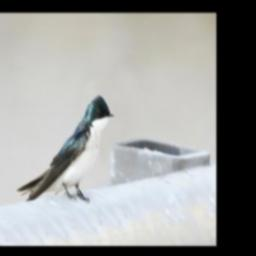Swallow: (16, 92, 116, 206)
